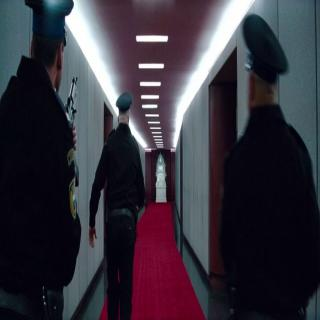gun: (59, 71, 81, 182)
